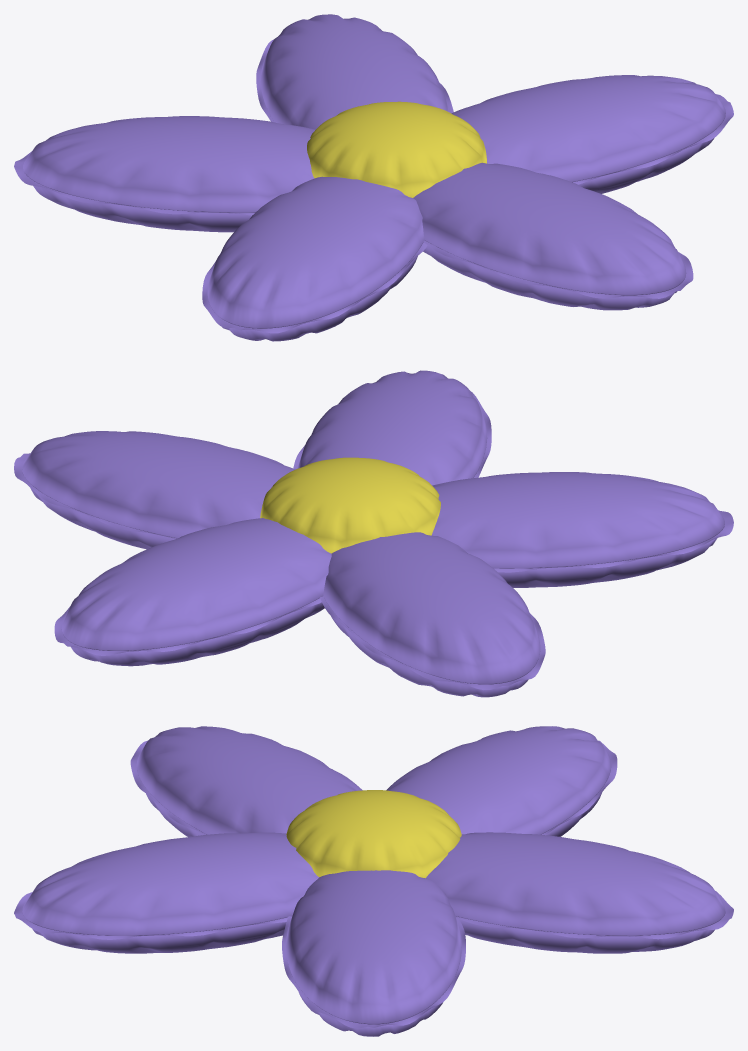
The model's file is flower.glb.
The picture shows the model from 3 angles, top to bottom: view 1: azimuth 30°, elevation 25°; view 2: azimuth 150°, elevation 25°; view 3: azimuth 270°, elevation 25°; orthographic projection.
Visible parts, largest first — view 1: Petal.004, Petal.002, Petal.003, Petal, Petal.001, Center, Petal weld.003, Petal weld.004, Petal weld.002, Petal weld; view 2: Petal.001, Petal.003, Petal.002, Petal, Petal.004, Center, Petal weld.002, Petal weld.001, Petal weld.003, Petal weld; view 3: Petal.001, Petal.004, Petal, Petal.003, Petal.002, Center, Petal weld, Petal weld.001, Petal weld.004, Petal weld.003, Petal weld.002.
Boxes of the visible parts, bbox=[...] form: Petal.004: bbox=[413, 162, 686, 310]; Petal.002: bbox=[23, 116, 315, 232]; Petal.003: bbox=[207, 176, 424, 341]; Petal: bbox=[451, 75, 725, 193]; Petal.001: bbox=[260, 14, 450, 129]; Center: bbox=[307, 101, 486, 197]; Petal weld.003: bbox=[202, 242, 427, 333]; Petal weld.004: bbox=[423, 240, 693, 298]; Petal weld.002: bbox=[14, 151, 254, 215]; Petal weld: bbox=[573, 94, 733, 184]; Petal.001: bbox=[61, 518, 331, 666]; Petal.003: bbox=[431, 472, 724, 587]; Petal.002: bbox=[323, 532, 540, 697]; Petal: bbox=[22, 431, 295, 549]; Petal.004: bbox=[297, 370, 487, 485]; Center: bbox=[260, 457, 440, 553]; Petal weld.002: bbox=[320, 596, 545, 690]; Petal weld.001: bbox=[54, 598, 321, 655]; Petal weld.003: bbox=[493, 510, 733, 572]; Petal weld: bbox=[14, 453, 177, 538]; Petal.001: bbox=[426, 832, 725, 953]; Petal.004: bbox=[22, 832, 318, 953]; Petal: bbox=[286, 870, 461, 1036]; Petal.003: bbox=[136, 726, 362, 837]; Petal.002: bbox=[386, 726, 611, 836]; Center: bbox=[286, 790, 461, 878]; Petal weld: bbox=[282, 916, 465, 1028]; Petal weld.001: bbox=[455, 891, 733, 939]; Petal weld.004: bbox=[14, 892, 287, 939]; Petal weld.003: bbox=[130, 740, 206, 834]; Petal weld.002: bbox=[541, 740, 617, 835].
Size of the model in its own units: 1.73 by 0.287 by 1.8.
